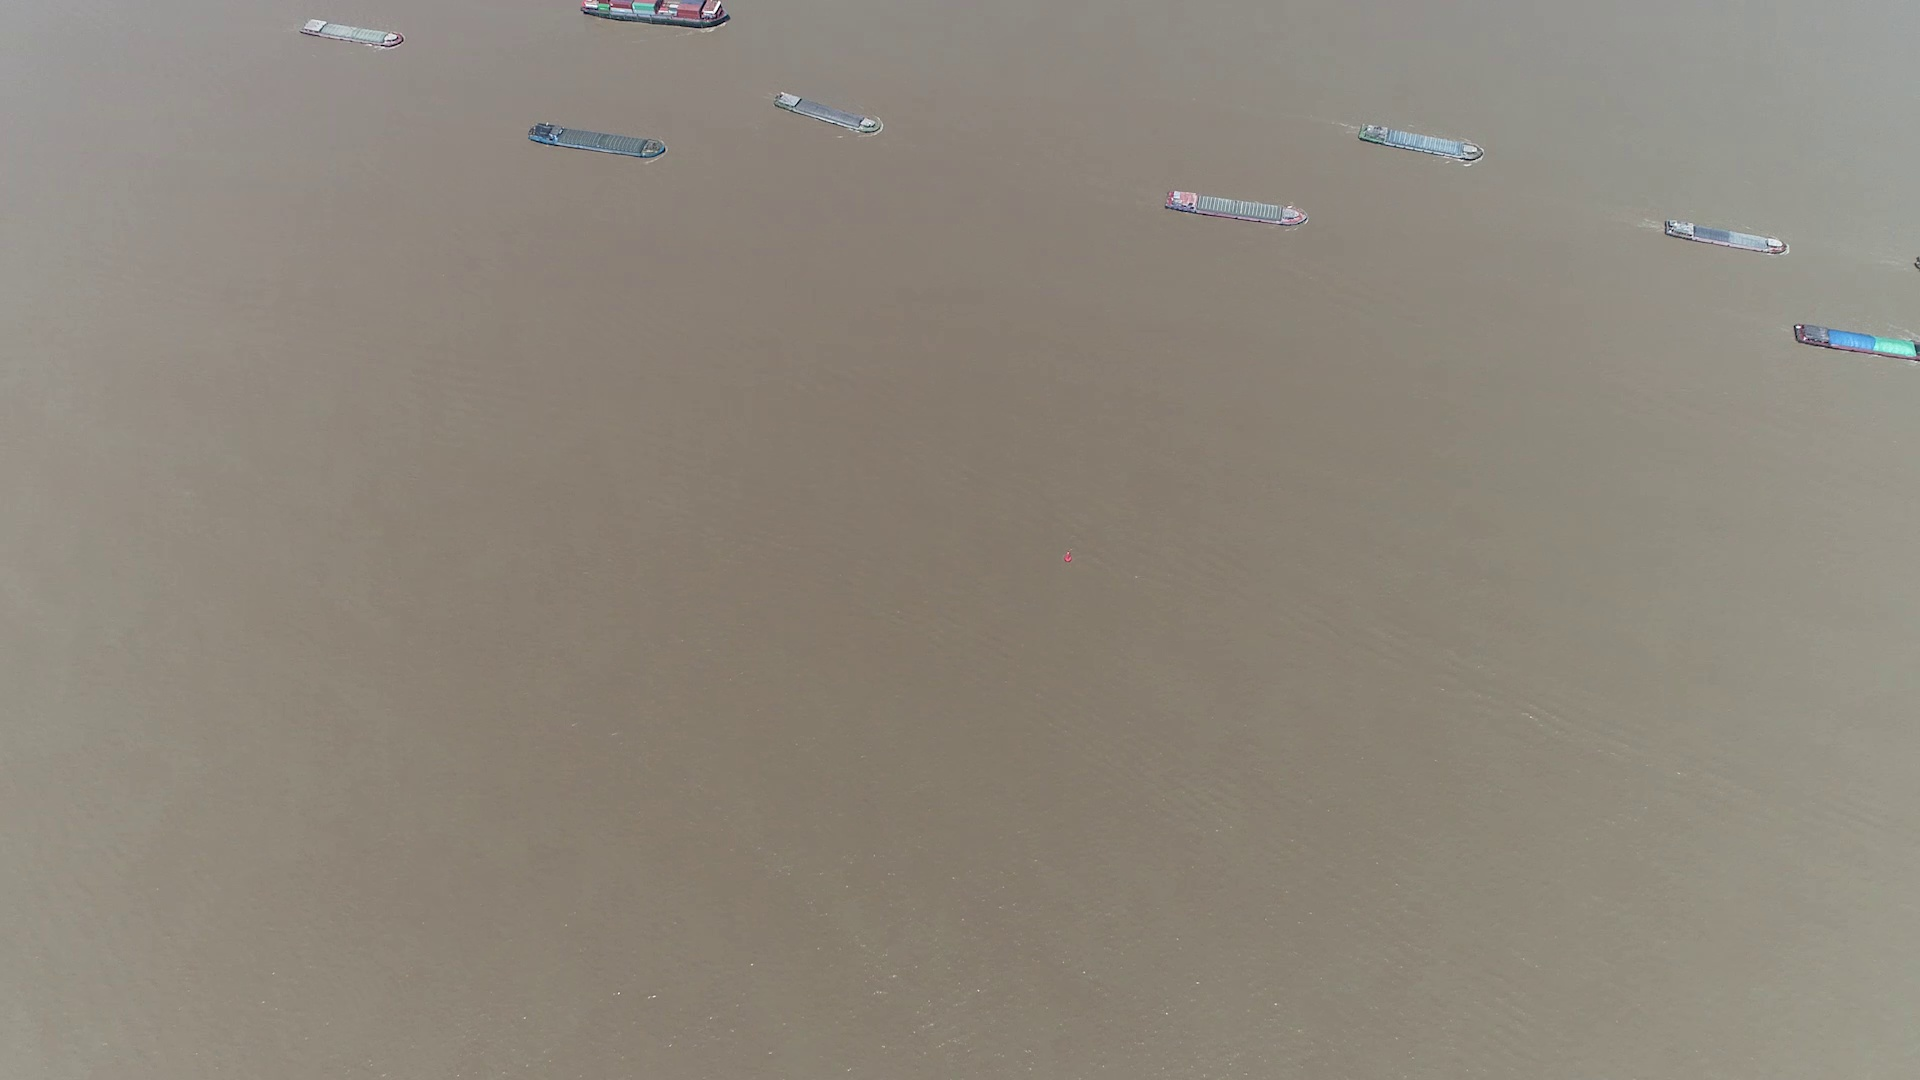ship: (1167, 189, 1305, 228), (1792, 322, 1920, 363), (527, 123, 665, 160), (1358, 123, 1482, 162), (773, 94, 882, 136), (1664, 219, 1787, 253), (578, 0, 729, 28), (301, 17, 404, 47)
